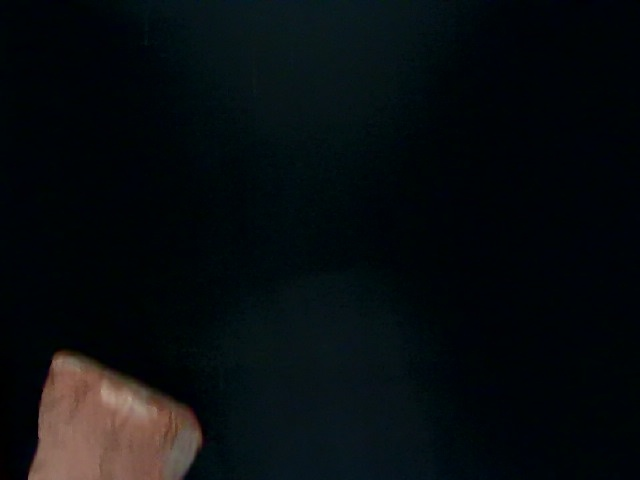KHSLJ: (1, 322, 305, 475)
